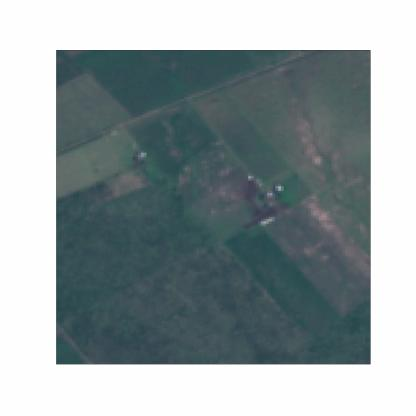silobolsa: (259, 215, 277, 226)
